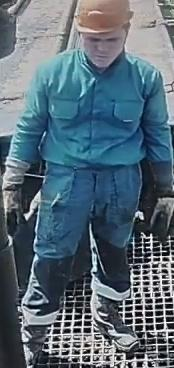gloves: (1, 157, 30, 237), (146, 190, 174, 236)
helmet: (72, 0, 131, 43)
vest: (12, 49, 174, 186)
